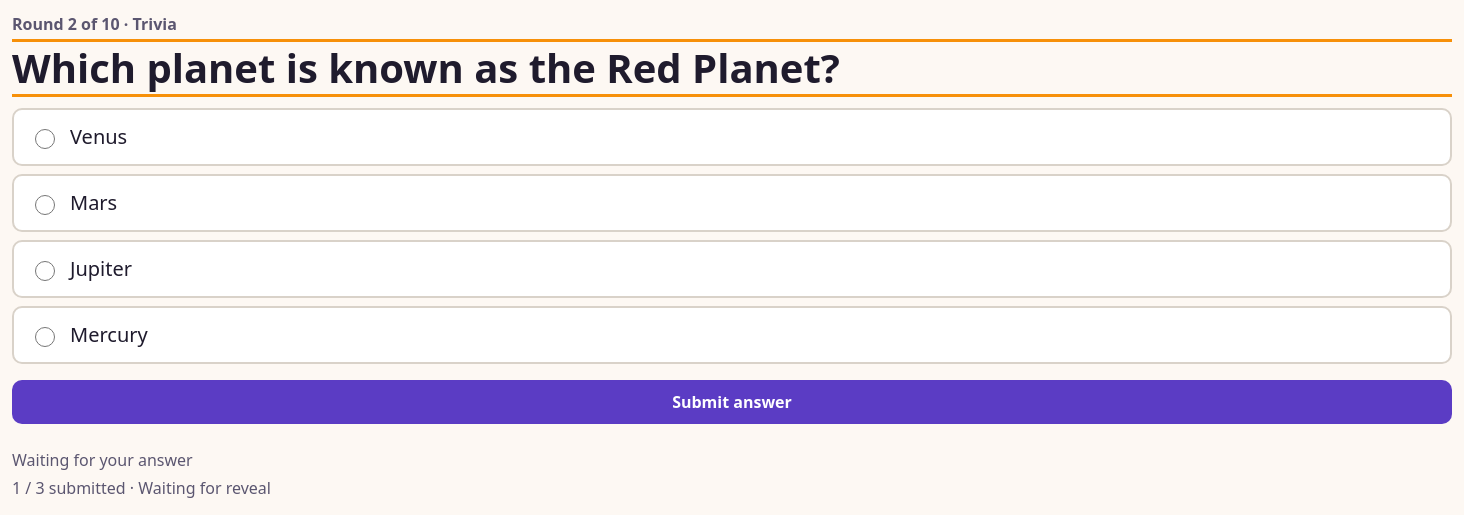
Test: RoundView: submitting › disables the button while the request is in flight
This screenshot has width=1464, height=515.
Click the radio button labelled "Mars": (45, 204) left=35, top=194, right=55, bottom=214
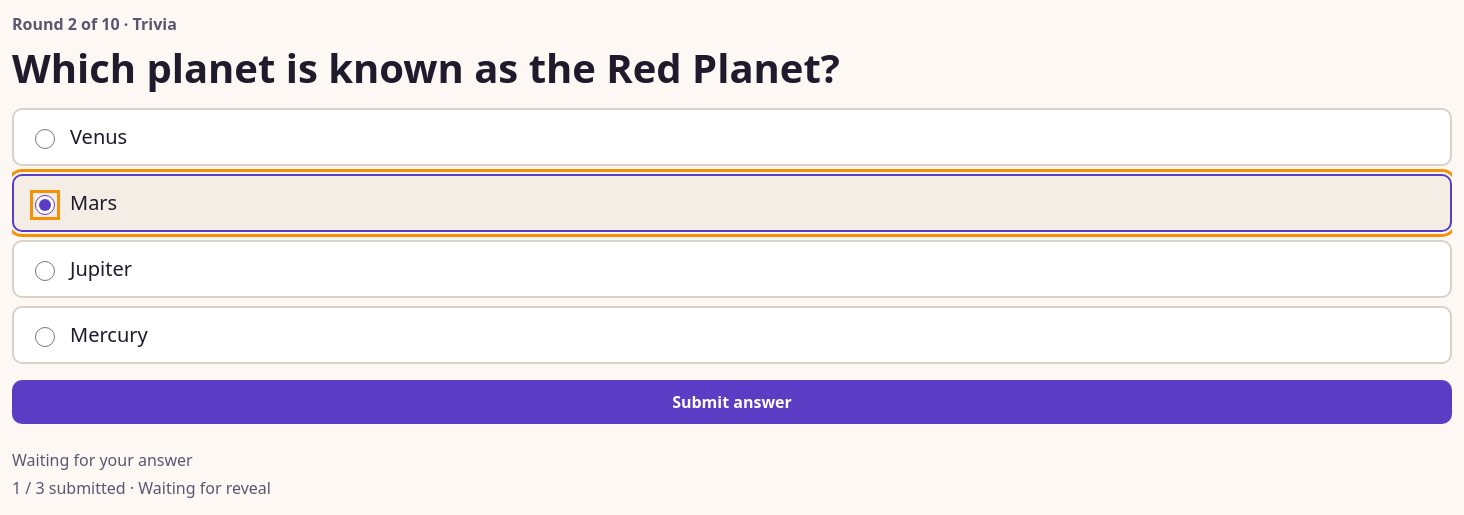
Click the button "Submit answer": (732, 402) left=12, top=380, right=1452, bottom=424
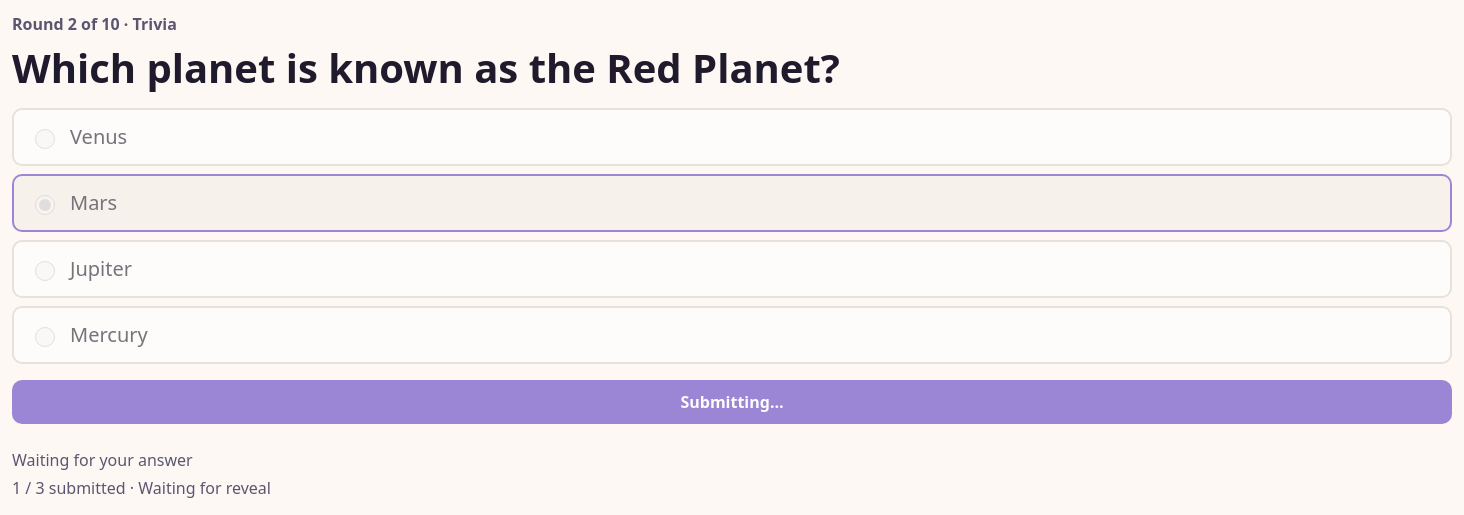
Result: the button "Submitting…" is disabled
Click the button "Submitting…": (732, 402) left=12, top=380, right=1452, bottom=424
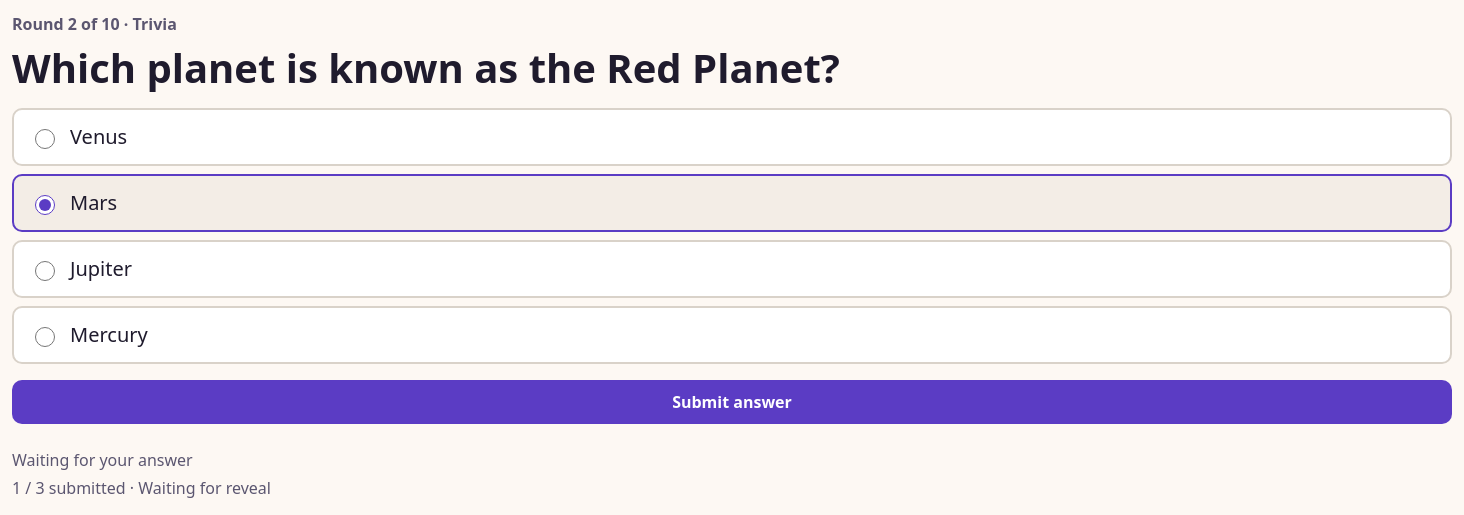
Result: the button "Submit answer" is enabled at left=12, top=380, right=1452, bottom=424
